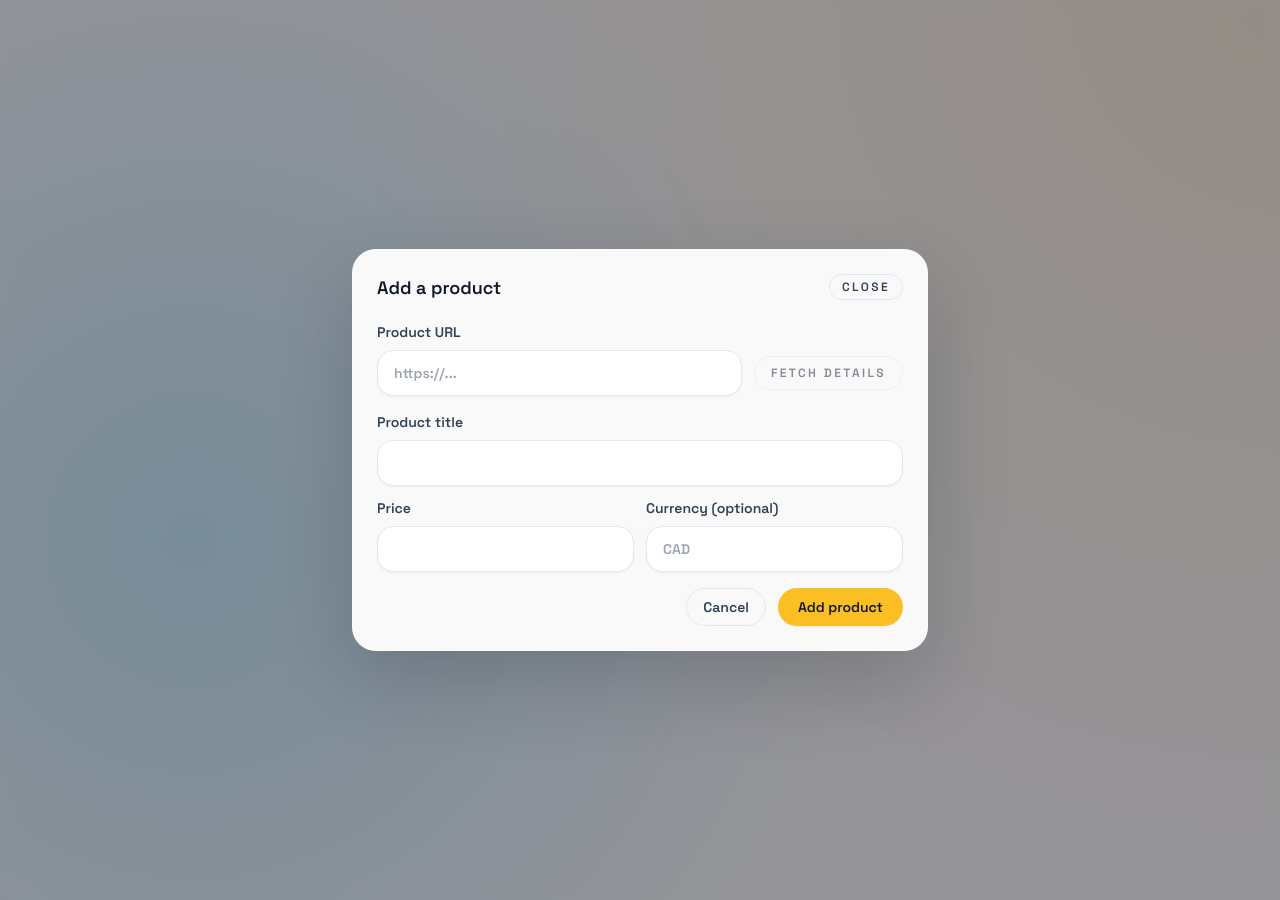
Test case: AddProductModal › prefills fields from fetch details
Step 1. Type "https://example.com/product?utm=1" into the field labelled "Product URL" → (559,373), box [377,350,742,396]
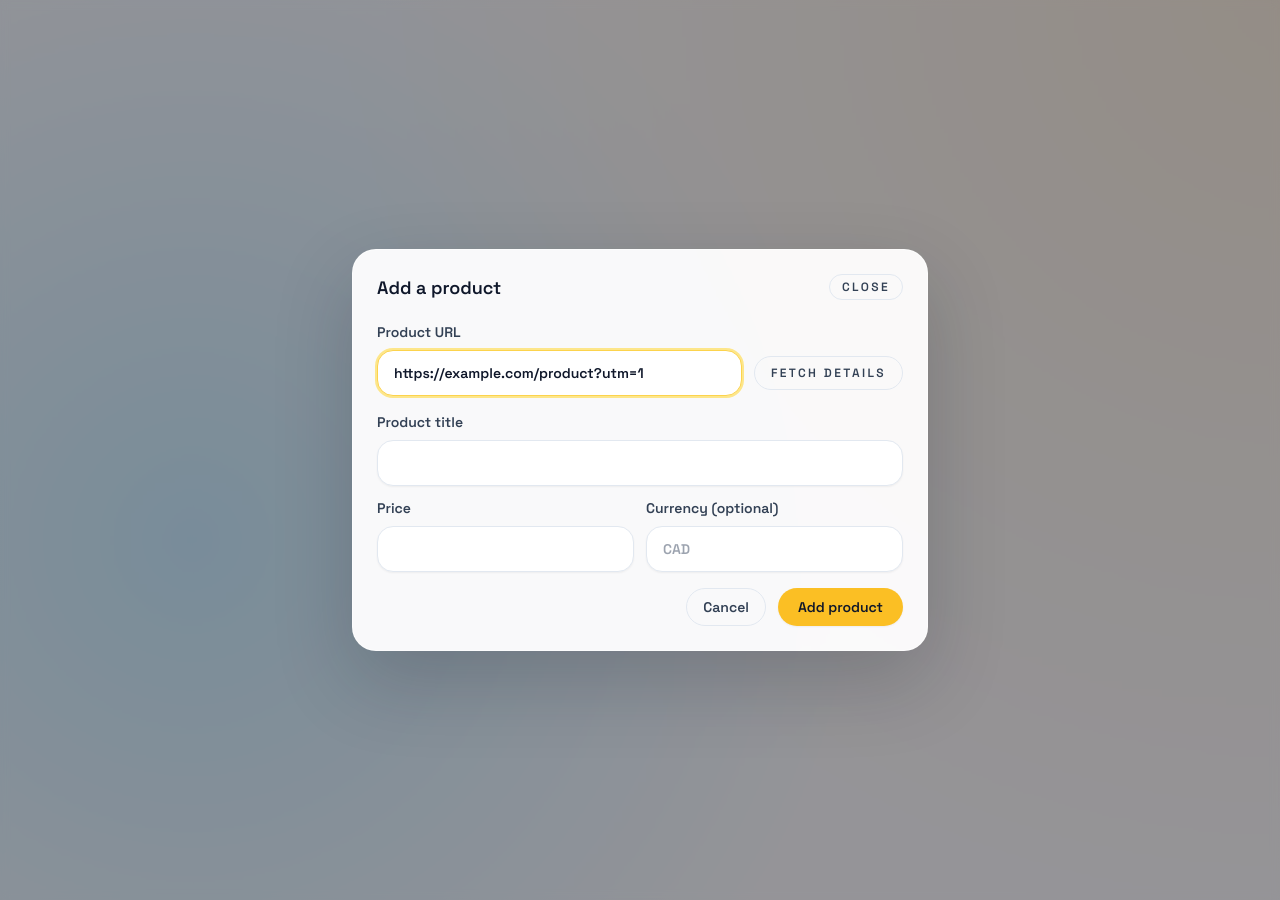
Step 2. Click the button "Fetch details" → (828,373), box [754,356,903,390]
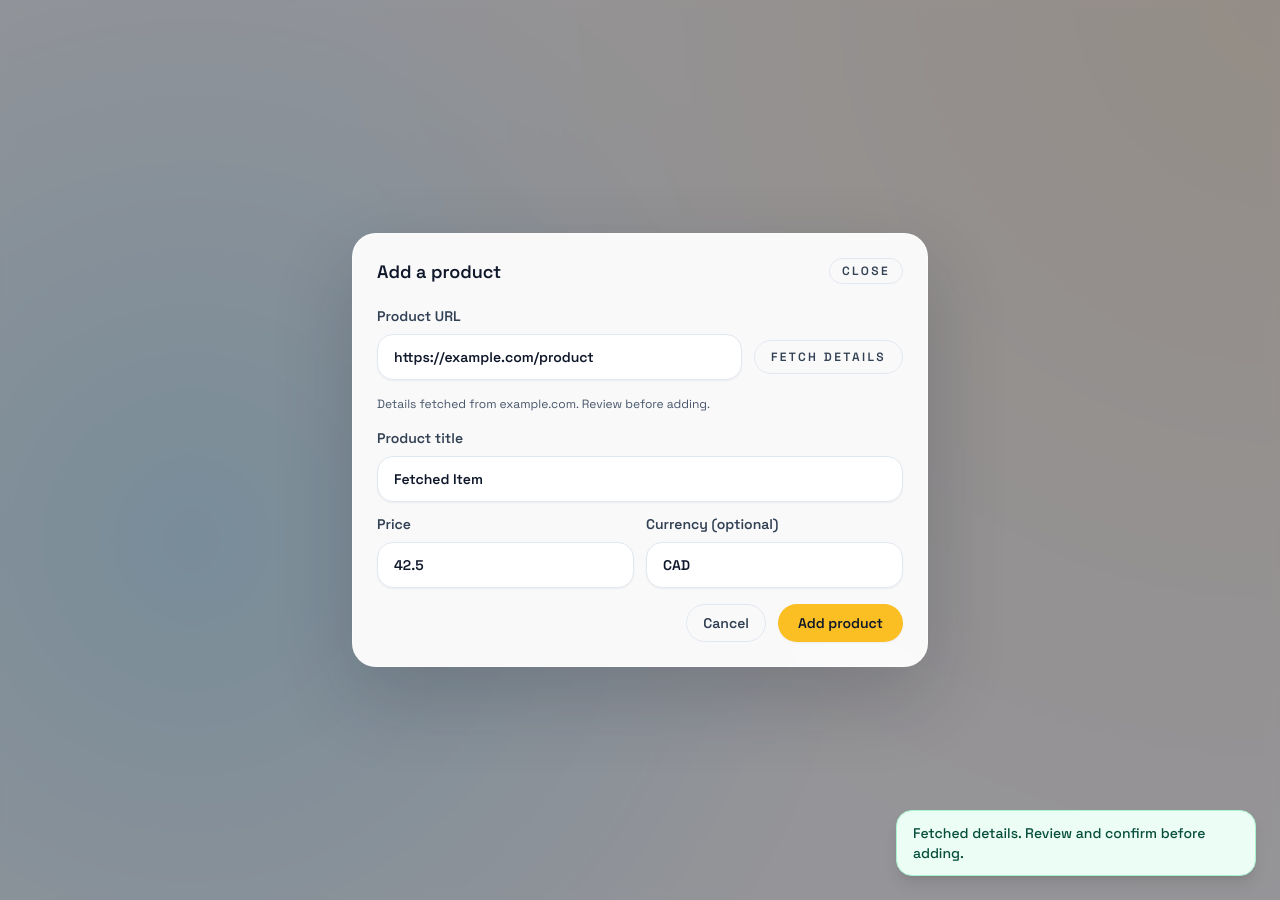
Expected: the field labelled "Product title" holds "Fetched Item", [377,456,903,502]
Expected: the number field labelled "Price" holds "42.5", [377,542,634,588]
Expected: the field labelled "Currency (optional)" holds "CAD", [646,542,903,588]
